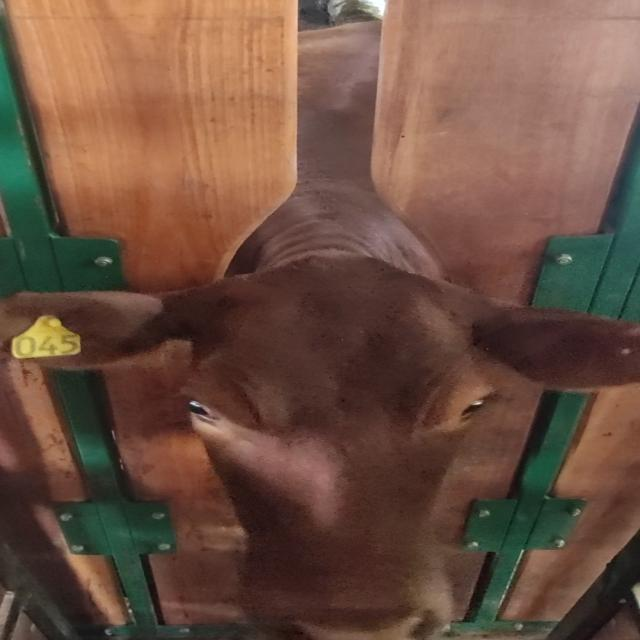cowFace: (185, 256, 495, 636)
